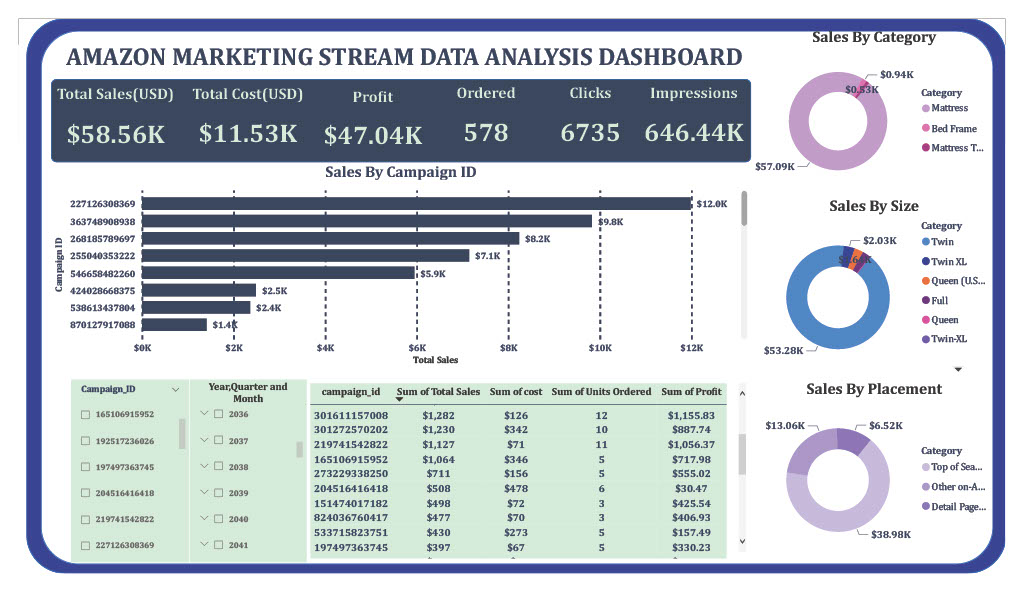

What the dashboard file says about the page in this screenshot:
{"tool":"powerbi","page":{"name":"Page 1","canvas":[1280,720],"ordinal":0},"visuals":[{"type":"shape","box":[9.6,0,1270.7,720.4],"z":0},{"type":"shape","box":[28.8,15.4,1234.6,692.3],"z":1000},{"type":"shape","box":[41.7,78,907.8,107.6],"z":2000},{"type":"card","title":"Total Sales(USD)","fields":{"Values":["Sum(time_window_start.attributed_sales_7d)"]},"box":[42,86,167,101],"z":3000},{"type":"card","title":"Total Cost(USD)","fields":{"Values":["Sum(time_window_start.cost)"]},"box":[209,86,176,100],"z":4000},{"type":"card","title":"Profit","fields":{"Values":["Sum(time_window_start.Profit)"]},"box":[385,88,148,99],"z":5000},{"type":"card","title":"Ordered","fields":{"Values":["Sum(time_window_start.attributed_units_ordered_7d)"]},"box":[533,84,148,101],"z":6000},{"type":"card","title":"Clicks","fields":{"Values":["Sum(time_window_start.clicks)"]},"box":[681,84,122,101],"z":7000},{"type":"card","title":"Impressions","fields":{"Values":["Sum(time_window_start.impressions)"]},"box":[803,84,146,101],"z":8000},{"type":"donutChart","title":"Sales By Category","fields":{"Category":["product_description.category"],"Y":["Sum(time_window_start.attributed_sales_7d)"]},"box":[949.4,12.1,320.1,219.2],"z":9000},{"type":"donutChart","title":"Sales By Placement","fields":{"Y":["Sum(time_window_start.attributed_sales_7d)"],"Category":["time_window_start.placement"]},"box":[949.4,468,320.1,236.7],"z":10000},{"type":"clusteredBarChart","title":"Sales By Campaign ID","fields":{"Category":["time_window_start.campaign_id"],"Y":["Sum(time_window_start.attributed_sales_7d)"]},"box":[41.7,185.6,907.8,267.6],"z":11000},{"type":"donutChart","title":"Sales By Size","fields":{"Y":["Sum(time_window_start.attributed_sales_7d)"],"Category":["product_description.size"]},"box":[949.4,231.3,320.1,236.7],"z":12000},{"type":"tableEx","fields":{"Values":["time_window_start.campaign_id","Sum(time_window_start.attributed_sales_7d)","Sum(time_window_start.cost)","Sum(time_window_start.attributed_units_ordered_7d)","Sum(time_window_start.Profit)"]},"box":[373,468,576,237],"z":13000},{"type":"slicer","fields":{"Values":["time_window_start.campaign_id"]},"box":[69,468,153,237],"z":14000},{"type":"slicer","title":"Year,Quarter and Month","fields":{"Values":["time_window_start.timedata_pst.1.Variation.Date Hierarchy.Year","time_window_start.timedata_pst.1.Variation.Date Hierarchy.Quarter","time_window_start.timedata_pst.1.Variation.Date Hierarchy.Month"]},"box":[222,468,151,237],"z":15000},{"type":"textbox","box":[42.3,25,917.3,53.8],"z":16000}]}

Visuals, with their boxes in screenshot pixels (x1, y1, x2, y2), scaled from the page's 1280x720 canvas onto the 1024x592 screenshot:
shape: bbox(8, 0, 1023, 591)
shape: bbox(23, 13, 1011, 582)
shape: bbox(33, 64, 760, 153)
"Total Sales(USD)" card: bbox(34, 71, 167, 154)
"Total Cost(USD)" card: bbox(167, 71, 308, 153)
"Profit" card: bbox(308, 72, 426, 154)
"Ordered" card: bbox(426, 69, 545, 152)
"Clicks" card: bbox(545, 69, 642, 152)
"Impressions" card: bbox(642, 69, 759, 152)
"Sales By Category" donutChart: bbox(760, 10, 1016, 190)
"Sales By Placement" donutChart: bbox(760, 385, 1016, 579)
"Sales By Campaign ID" clusteredBarChart: bbox(33, 153, 760, 373)
"Sales By Size" donutChart: bbox(760, 190, 1016, 385)
tableEx - time_window_start.campaign_id x Sum(time_window_start.attributed_sales_7d): bbox(298, 385, 759, 580)
slicer - time_window_start.campaign_id: bbox(55, 385, 178, 580)
"Year,Quarter and Month" slicer: bbox(178, 385, 298, 580)
textbox: bbox(34, 21, 768, 65)
